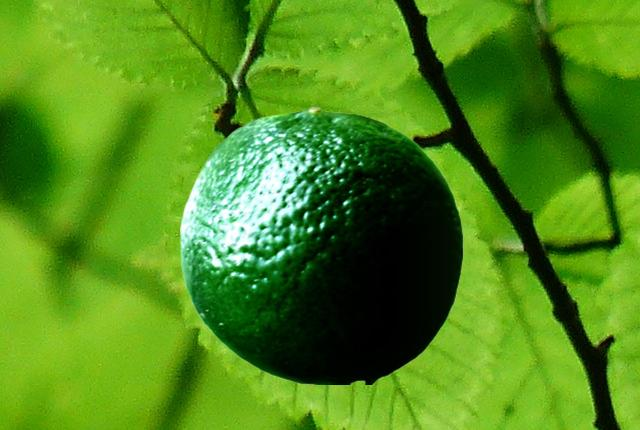calamansi: (180, 106, 462, 383)
